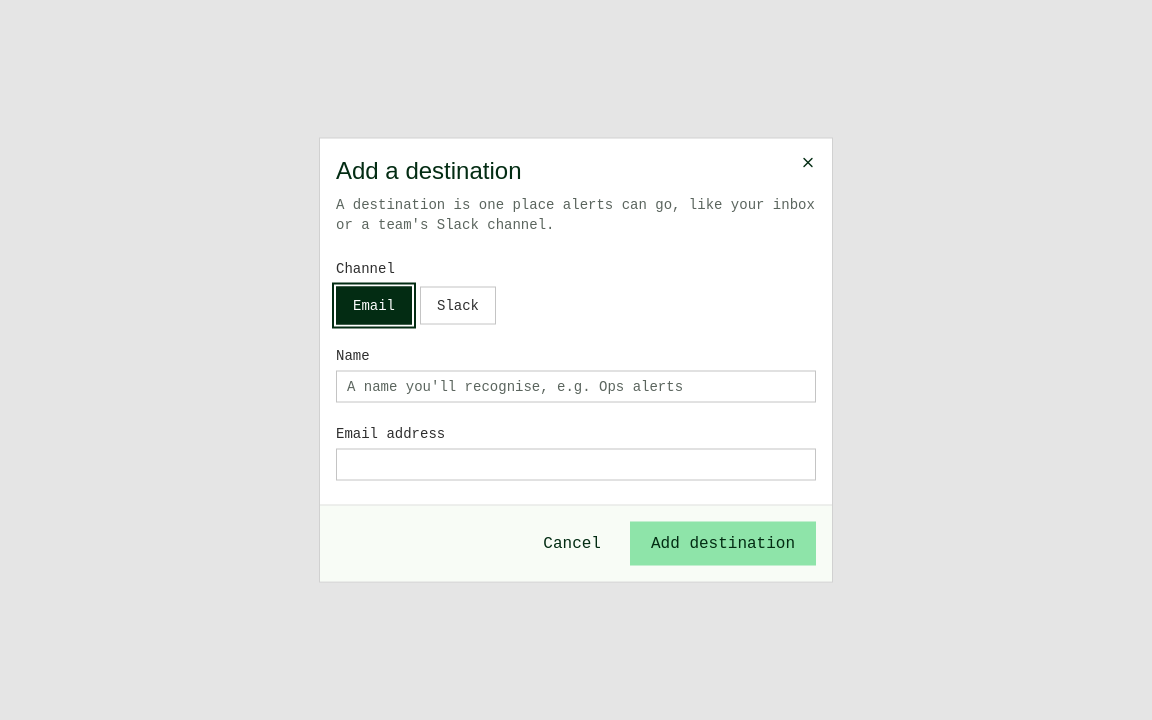
DestinationDialog › checks the form before sending
Click the button "Add destination" at (723, 544), box top-left (630, 522), bottom-right (816, 566)
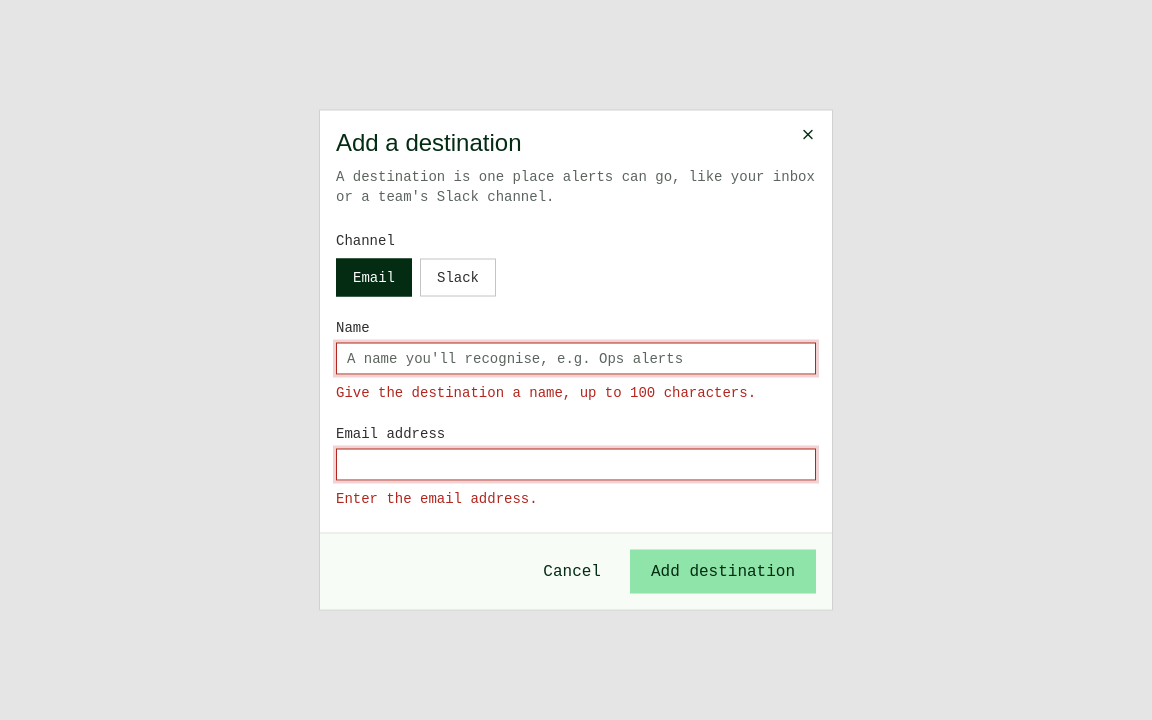
expect the text "Give the destination a name, up to 100 characters." is shown: met, box top-left (336, 382), bottom-right (816, 402)
expect the text "Enter the email address." is shown: met, box top-left (336, 490), bottom-right (538, 506)
